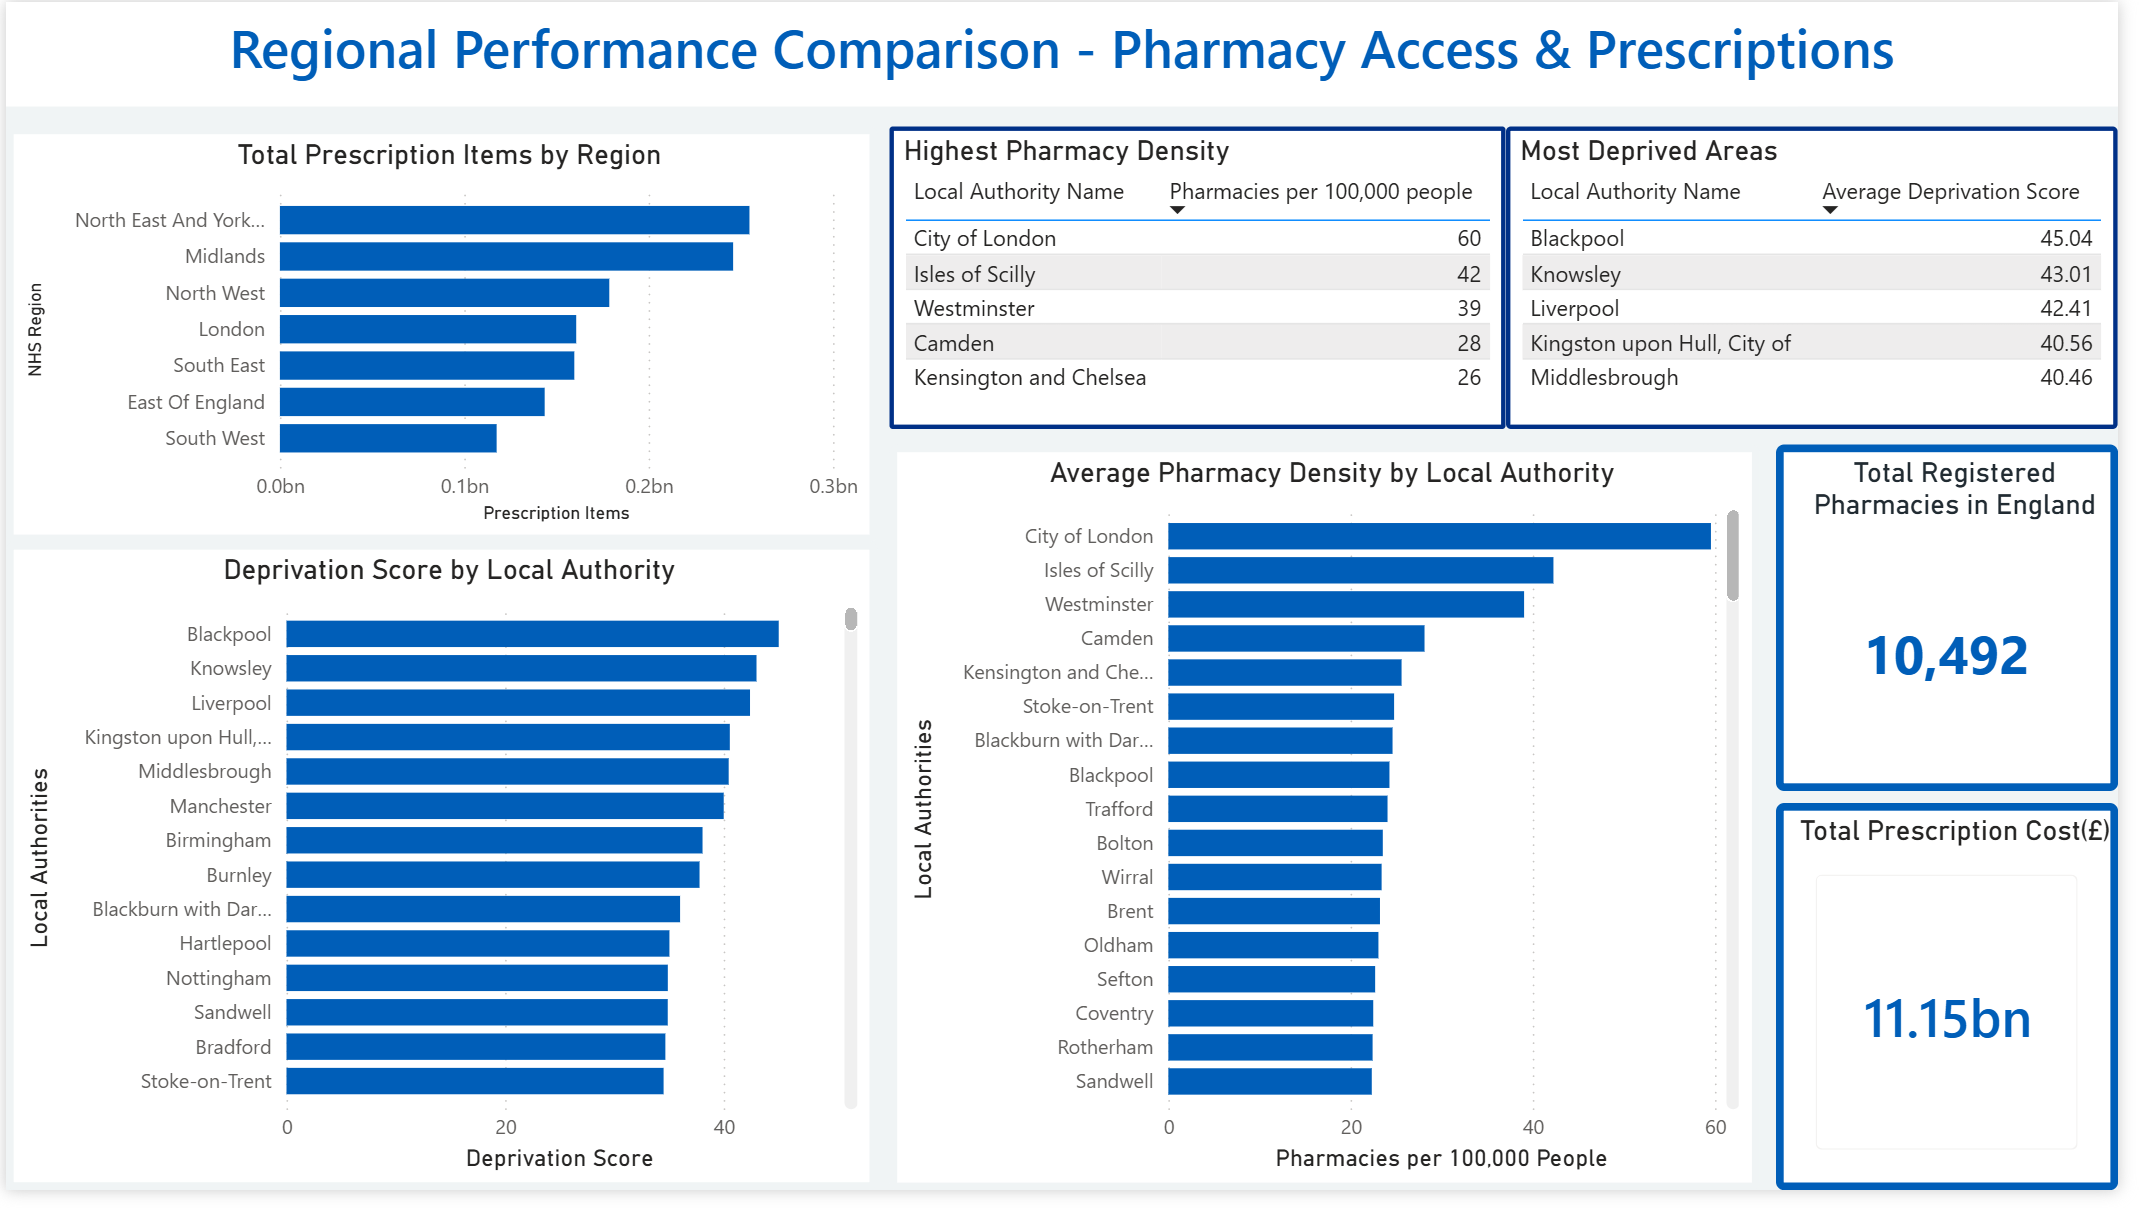

This screenshot's page, from the dashboard's own definition file:
{"tool":"powerbi","page":{"name":"Regional Comparison","canvas":[1280,720],"ordinal":3},"visuals":[{"type":"clusteredBarChart","title":"Total Prescription Items by Region","fields":{"Category":["prescriptions_by_region_bnf.region_name"],"Y":["Sum(prescriptions_by_region_bnf.total_items)"]},"box":[0,75.5,528.2,251.8],"z":0},{"type":"clusteredBarChart","title":"Average Pharmacy Density by Local Authority","fields":{"Category":["pharmacy_deprivation.lad_name"],"Y":["Avg(pharmacy_deprivation.pharmacies_per_100k)"]},"box":[535.5,268.2,527.3,451.8],"z":1000},{"type":"clusteredBarChart","title":"Deprivation Score by Local Authority","fields":{"Category":["pharmacy_deprivation.lad_name"],"Y":["Avg(pharmacy_deprivation.imd_avg_score)"]},"box":[0,327.3,528.2,392.7],"z":2000},{"type":"tableEx","title":"Most Deprived Areas","fields":{"Values":["pharmacy_deprivation.lad_name","Avg(pharmacy_deprivation.imd_avg_score)"]},"box":[909.1,75.5,370.9,183.6],"z":3000},{"type":"tableEx","title":"Highest Pharmacy Density","fields":{"Values":["pharmacy_deprivation.lad_name","Sum(pharmacy_deprivation.pharmacies_per_100k)"]},"box":[535.5,75.5,373.6,183.6],"z":4000},{"type":"cardVisual","title":"Total Prescription Cost(£)","fields":{"Data":["Sum(prescriptions_by_region_bnf.total_nic)"]},"box":[1072.7,485.5,207.3,234.5],"z":5000},{"type":"textbox","box":[0,0,1280,63.6],"z":6000},{"type":"textbox","title":"Total Registered Pharmacies in England","box":[1072.7,268.2,207.3,210],"z":7000}]}

Visuals, with their boxes in screenshot pixels (x1, y1, x2, y2), scaled from the page's 1280x720 canvas onto the 2139x1208 screenshot:
"Total Prescription Items by Region" clusteredBarChart: 0, 127, 883, 549
"Average Pharmacy Density by Local Authority" clusteredBarChart: 895, 450, 1776, 1207
"Deprivation Score by Local Authority" clusteredBarChart: 0, 549, 883, 1207
"Most Deprived Areas" tableEx: 1519, 127, 2138, 435
"Highest Pharmacy Density" tableEx: 895, 127, 1519, 435
"Total Prescription Cost(£)" cardVisual: 1793, 815, 2138, 1207
textbox: 0, 0, 2138, 107
"Total Registered Pharmacies in England" textbox: 1793, 450, 2138, 802
